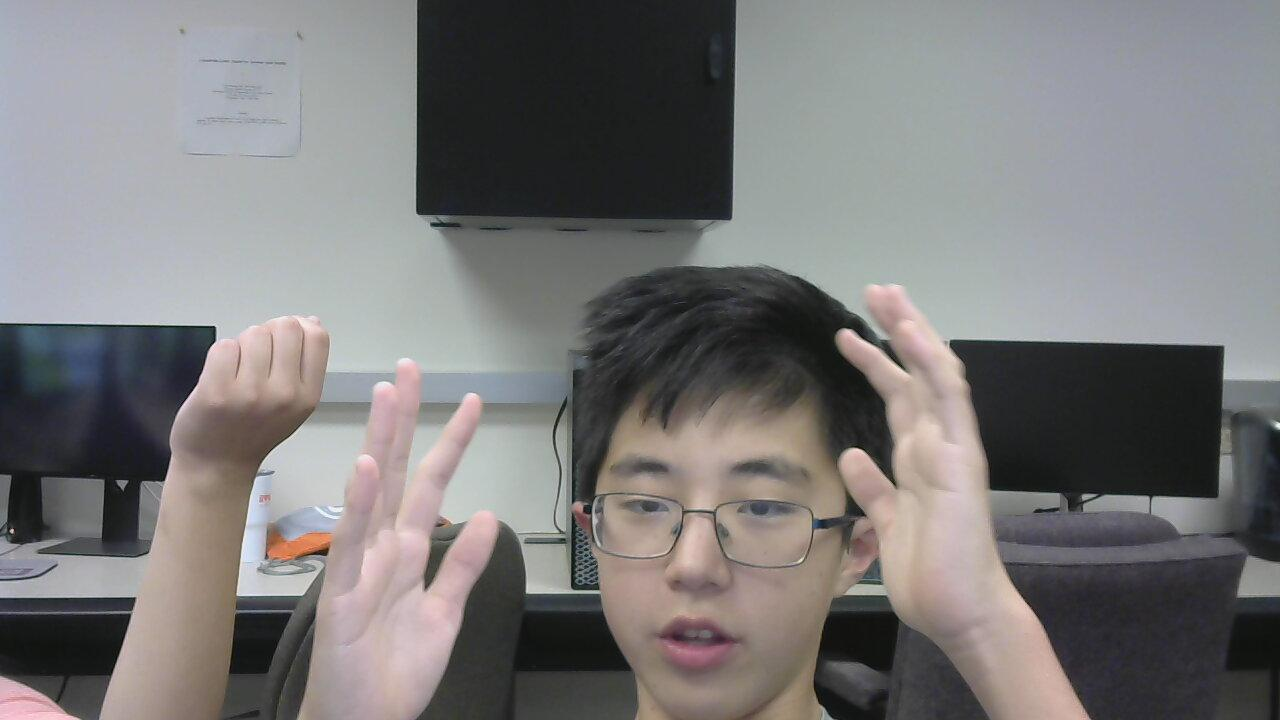hands: (820, 268, 1026, 641), (306, 354, 512, 720), (168, 311, 335, 456)
